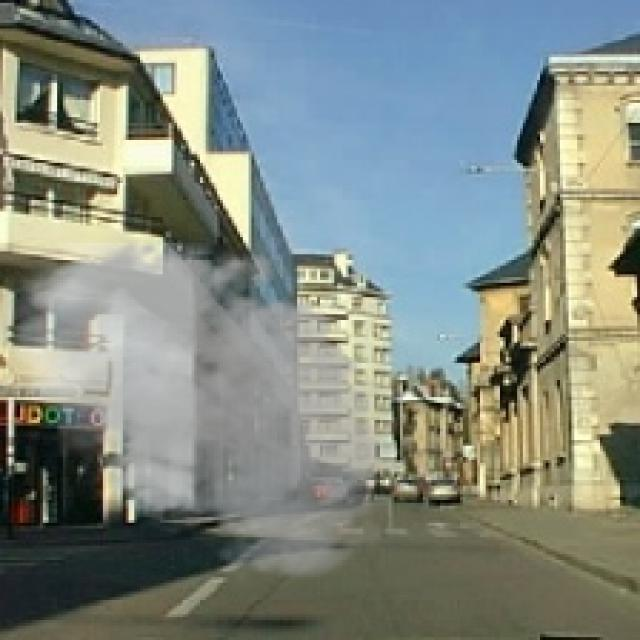Smoke: (0, 228, 412, 586)
